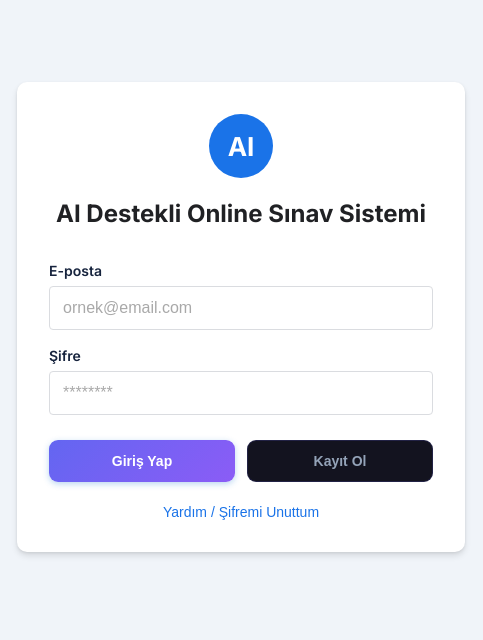
Test: Login Page › Vazgec butonuna basinca tekrar login ekranina donmeli
Click the button "Kayıt Ol" at (340,461), box [247,440,433,482]
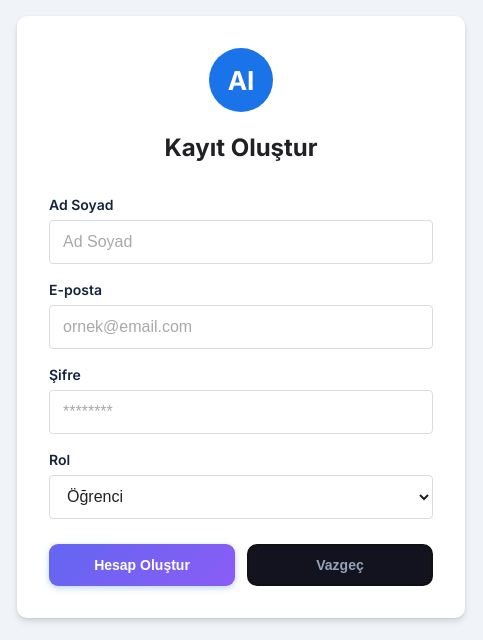
Click the button "Vazgeç" at (340,565), box [247,544,433,586]
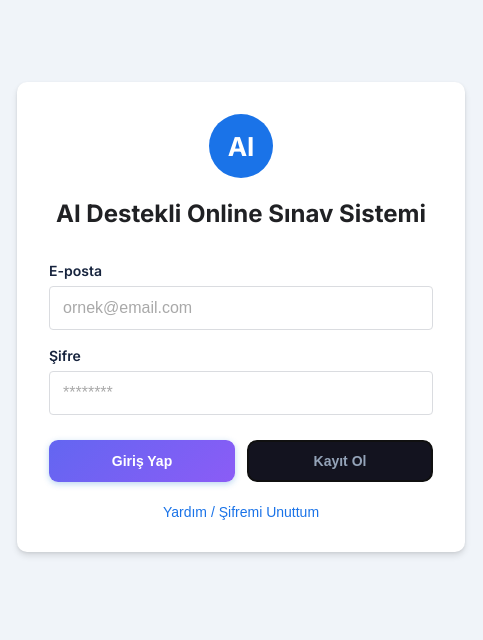
Result: the heading "AI Destekli Online Sınav Sistemi" is shown at [49,198,433,230]
Result: the label labelled "Ad Soyad" is gone
Result: the label labelled "Rol" is gone
